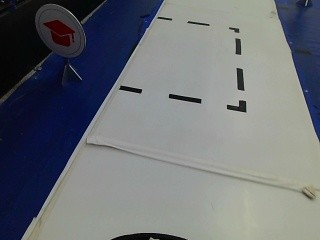school: (34, 9, 84, 60)
